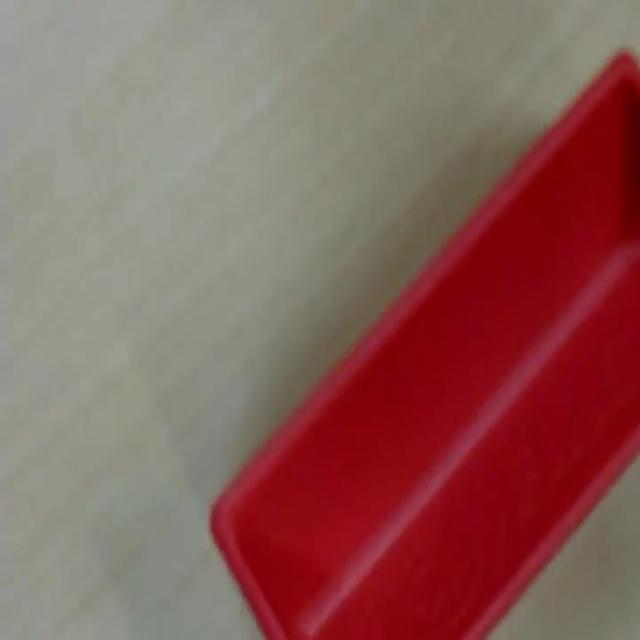red_block: (208, 45, 638, 636)
